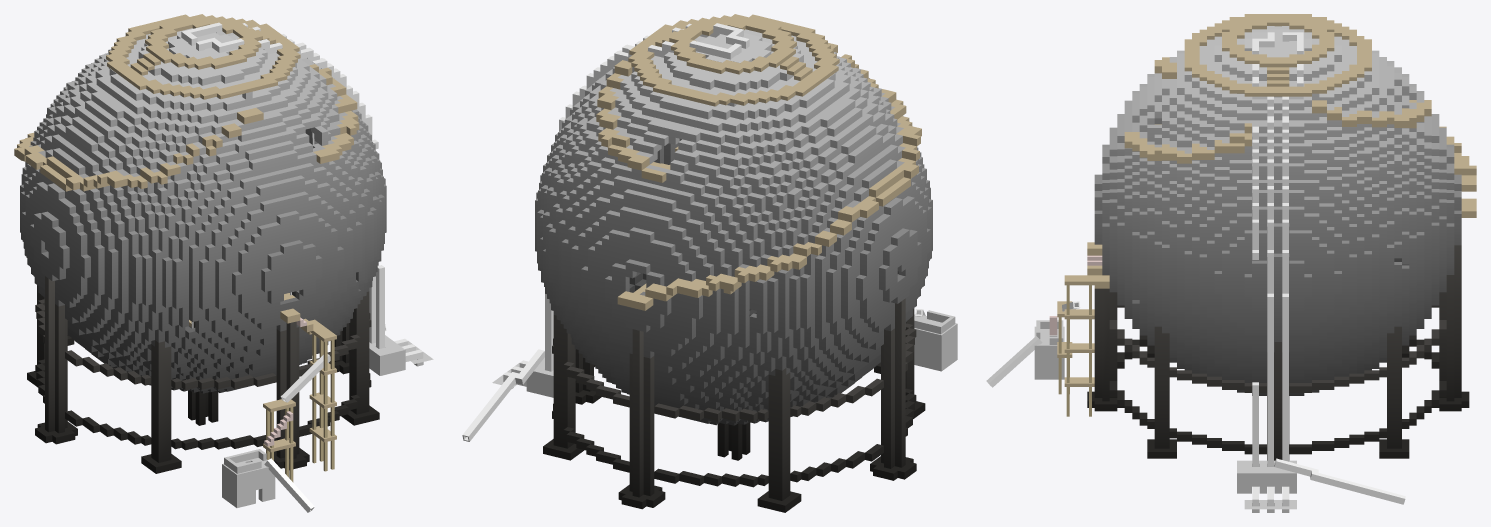
The model's file is WholeSphere.fbx.
3 views of the same model, side by side, from view 1: azimuth 30°, elevation 25°; view 2: azimuth 150°, elevation 25°; view 3: azimuth 270°, elevation 25° (orthographic). The views are drawn at different scales.
Visible parts, largest first — view 1: Sphere_sphere, Sphere_Pilars, SphereTopPlatform, Sphere_platforms, SpherePipes, Concrete Building, Sphere_scaffolding, Sphere_scaffolding.001; view 2: Sphere_sphere, Sphere_Pilars, Sphere_platforms, SphereTopPlatform, SpherePipes, Concrete Building; view 3: Sphere_sphere, Sphere_Pilars, SpherePipes, SphereTopPlatform, Sphere_platforms, Concrete Building, Sphere_scaffolding.001, Sphere_scaffolding.
Part boxes in pixels (x1,y1,x2,y2): Sphere_sphere: (20,28,386,393); Sphere_Pilars: (27,276,379,473); SphereTopPlatform: (106,14,300,99); Sphere_platforms: (14,64,359,334); SpherePipes: (181,22,423,512); Concrete Building: (222,335,433,507); Sphere_scaffolding: (266,334,334,482); Sphere_scaffolding.001: (263,325,336,452); Sphere_sphere: (535,29,932,425); Sphere_Pilars: (543,298,925,512); Sphere_platforms: (596,43,921,310); SphereTopPlatform: (628,14,839,106); SpherePipes: (462,23,925,441); Concrete Building: (492,310,957,397); Sphere_sphere: (1094,26,1461,395); Sphere_Pilars: (1087,245,1469,460); SpherePipes: (986,32,1405,506); SphereTopPlatform: (1184,14,1371,96); Sphere_platforms: (1087,57,1476,288); Concrete Building: (1034,320,1296,512); Sphere_scaffolding.001: (1057,275,1094,386); Sphere_scaffolding: (1058,285,1091,416).
Bounding box in the file's own units: 5959 × 5757 × 6614.
